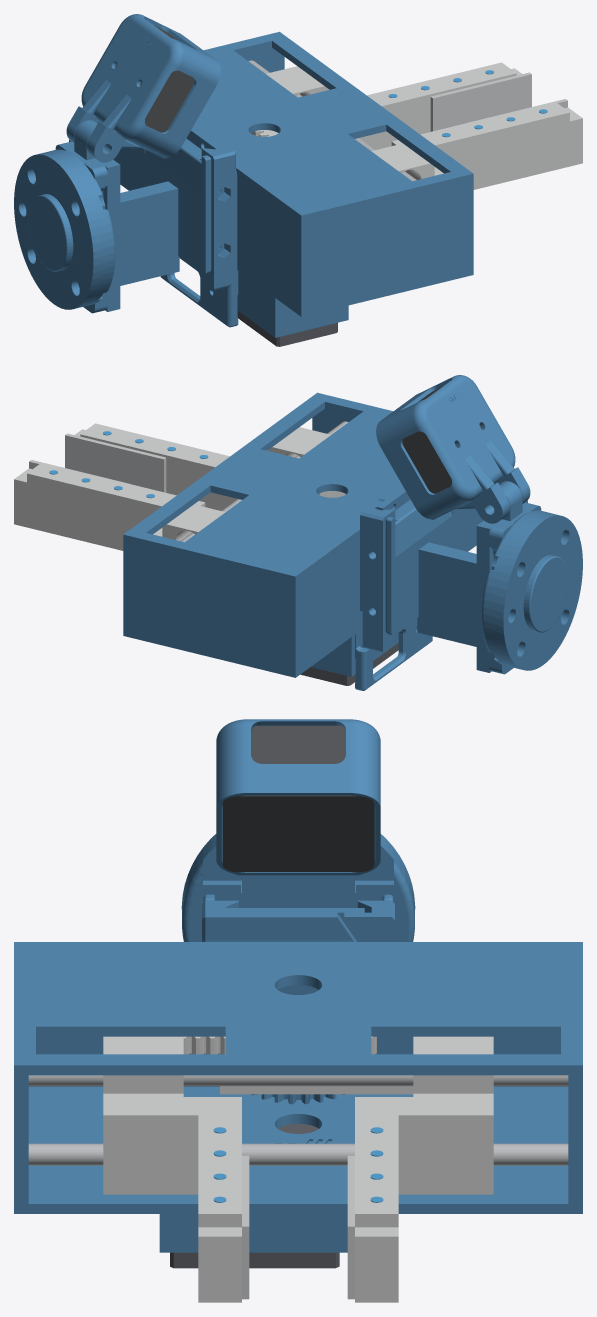
Rendered from parallel_iso50.glb.
3 views of the same model, one above another, from view 1: azimuth 30°, elevation 25°; view 2: azimuth 150°, elevation 25°; view 3: azimuth 270°, elevation 25° (orthographic). The views are drawn at different scales.
Parts seen in each view (by area): view 1: parallel_base_sa, iso_flange_plate, d405_cup, d405_frame, parallel_finger_right, parallel_finger_left, parallel_pad_left, d405_envelope, parallel_carriage_right, parallel_carriage_left, servo_envelope; view 2: parallel_base_sa, iso_flange_plate, d405_cup, d405_frame, parallel_finger_left, chopstick_clip_sa, parallel_finger_right, parallel_pad_right, d405_envelope, parallel_carriage_left, parallel_carriage_right, servo_envelope; view 3: parallel_base_sa, parallel_finger_left, parallel_finger_right, d405_envelope, d405_cup, iso_flange_plate, parallel_rod_bottom, parallel_carriage_left, parallel_rod_top, parallel_carriage_right, d405_frame, servo_envelope (+3 smaller).
Boxes of the visible parts, box(x1,y1,x2,y2) form: parallel_base_sa: box(113, 31, 473, 337); iso_flange_plate: box(14, 141, 115, 313); d405_cup: box(66, 14, 220, 162); d405_frame: box(69, 120, 211, 311); parallel_finger_right: box(391, 101, 582, 189); parallel_finger_left: box(329, 62, 522, 149); parallel_pad_left: box(430, 72, 531, 131); d405_envelope: box(115, 25, 194, 132); parallel_carriage_right: box(371, 143, 434, 179); parallel_carriage_left: box(251, 66, 328, 136); servo_envelope: box(237, 311, 337, 346); parallel_base_sa: box(123, 392, 483, 690); iso_flange_plate: box(481, 502, 582, 674); d405_cup: box(376, 375, 530, 523); d405_frame: box(385, 481, 527, 672); parallel_finger_left: box(14, 462, 205, 550); chopstick_clip_sa: box(360, 500, 395, 652); parallel_finger_right: box(75, 423, 267, 510); parallel_pad_right: box(65, 433, 166, 492); d405_envelope: box(402, 386, 481, 493); parallel_carriage_left: box(162, 504, 225, 540); parallel_carriage_right: box(268, 427, 345, 497); servo_envelope: box(300, 643, 398, 685); parallel_base_sa: box(14, 900, 582, 1252); parallel_finger_left: box(355, 1093, 493, 1302); parallel_finger_right: box(103, 1093, 241, 1302); d405_envelope: box(222, 725, 374, 871); d405_cup: box(216, 719, 380, 875); iso_flange_plate: box(181, 834, 415, 941); parallel_rod_bottom: box(28, 1143, 568, 1165); parallel_carriage_left: box(220, 1036, 493, 1094); parallel_rod_top: box(28, 1075, 568, 1086); parallel_carriage_right: box(103, 1036, 376, 1093); d405_frame: box(203, 875, 393, 907); servo_envelope: box(170, 1123, 339, 1268).
Size of the model in its own units: 0.233 by 0.1357 by 0.156.
